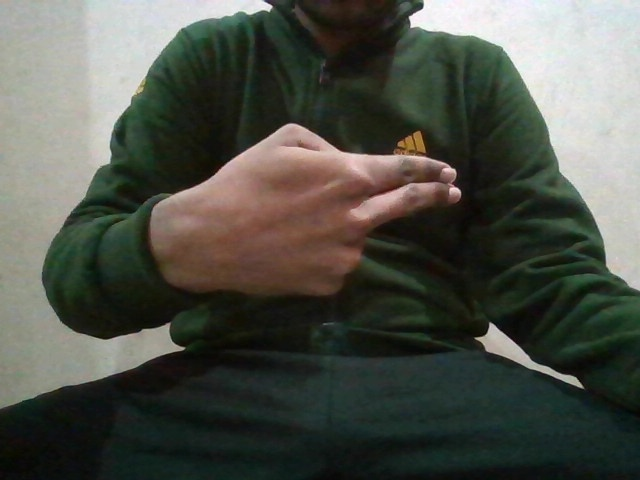H: (156, 122, 466, 301)
